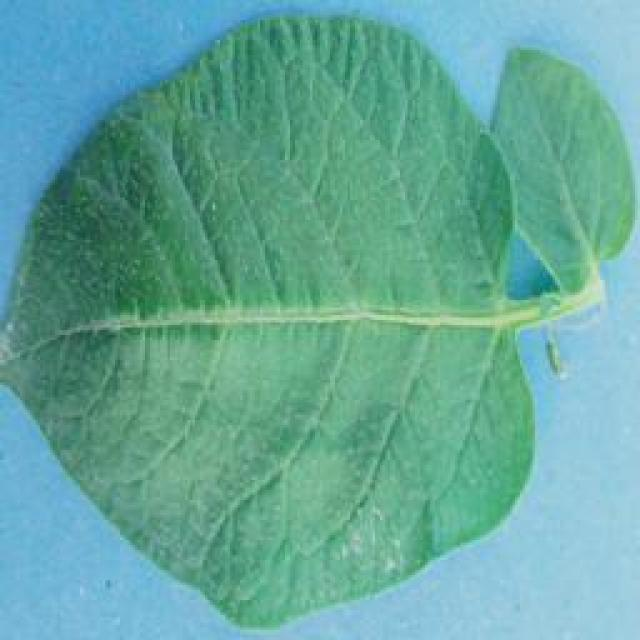Potato_Healthy: (1, 8, 628, 634)
